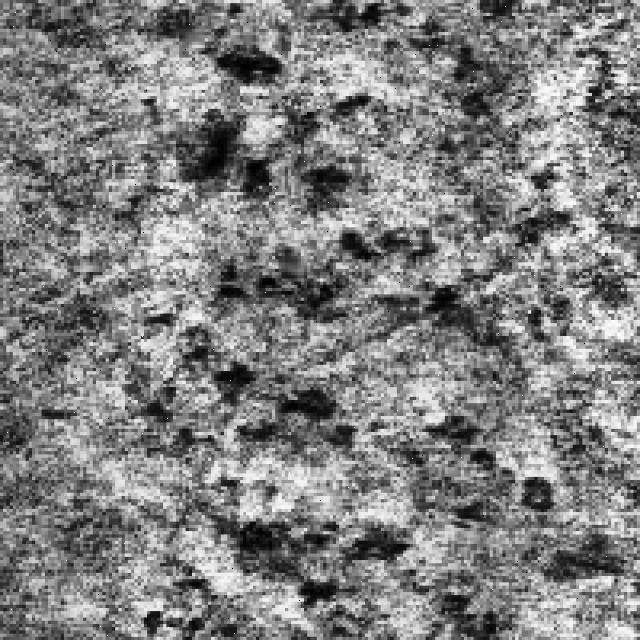Crazing: (138, 230, 512, 630), (175, 3, 358, 208)
